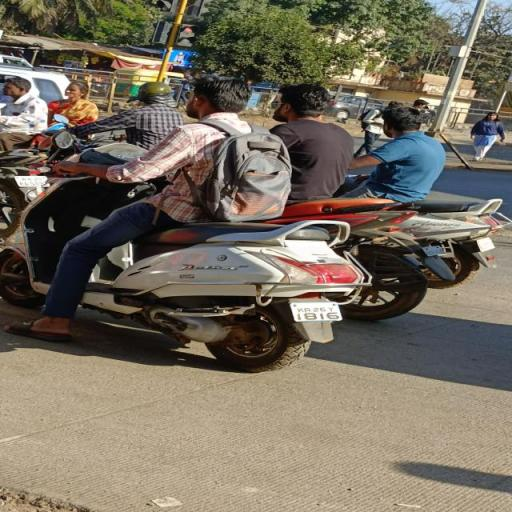bike: (6, 74, 377, 374)
numberplate: (292, 302, 347, 322)
withouthelmet: (192, 78, 250, 114)
